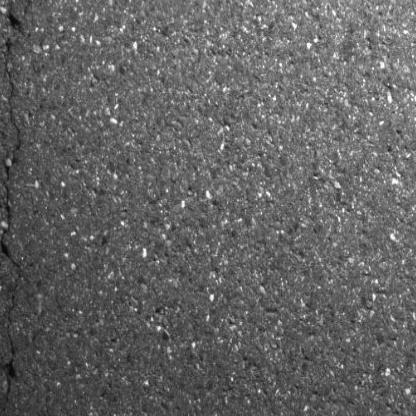Cracks: (0, 0, 39, 410)
